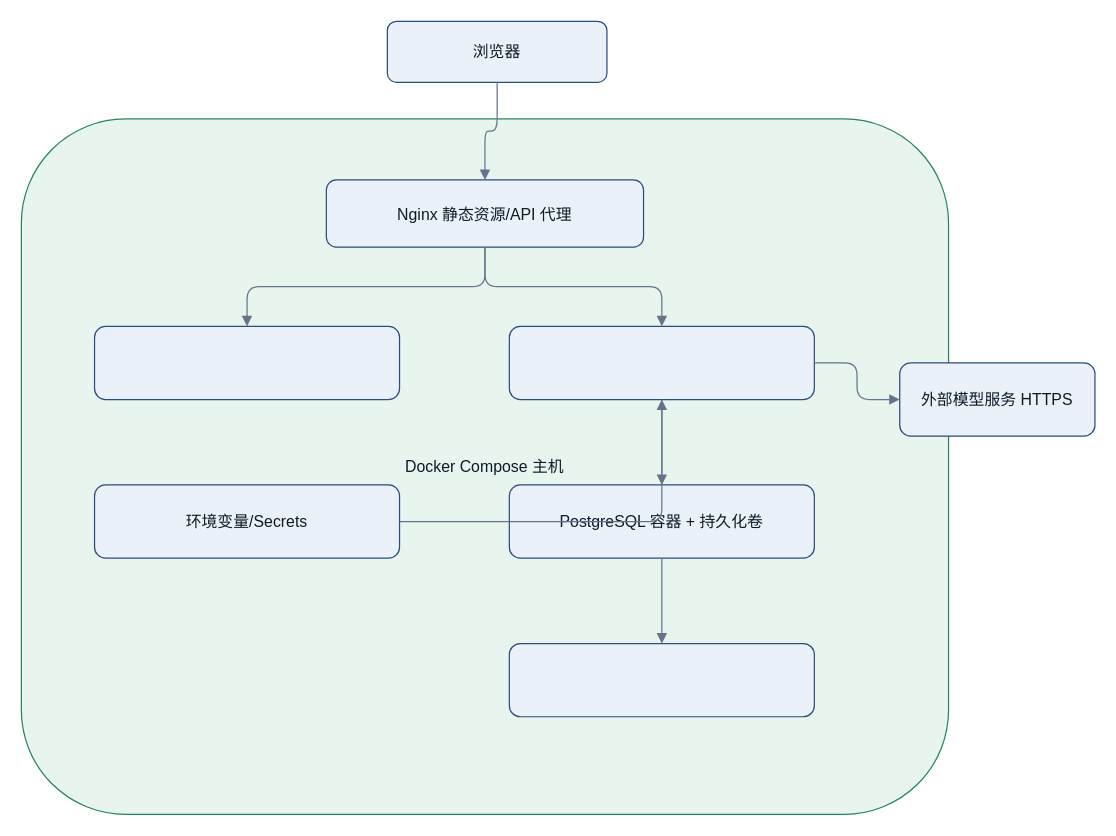
The diagram is 1116 pixels wide and 836 high, and some of its shapes have lost their labels. Each missing label, with the box of its shape:
Backend 容器：FastAPI: (508, 325, 814, 400)
Frontend 容器：Vue 构建产物: (93, 325, 400, 400)
备份文件：受控存储，不入 Git: (508, 642, 814, 717)
